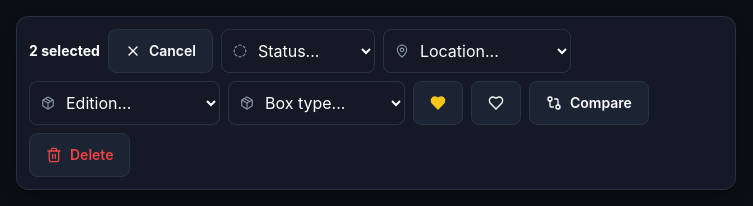
Test: BulkActionBar › marks favorite across every selected id, then clears and reports applied
The width and height of the screenshot is (753, 206).
Click the button named "Mark favorite": (438, 103) [413,81,463,125]
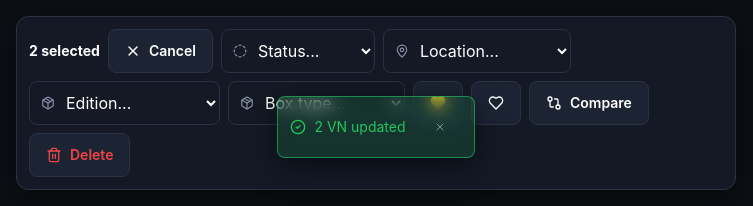
Expected: the text "2 VN updated" is shown, [314,117,406,137]
